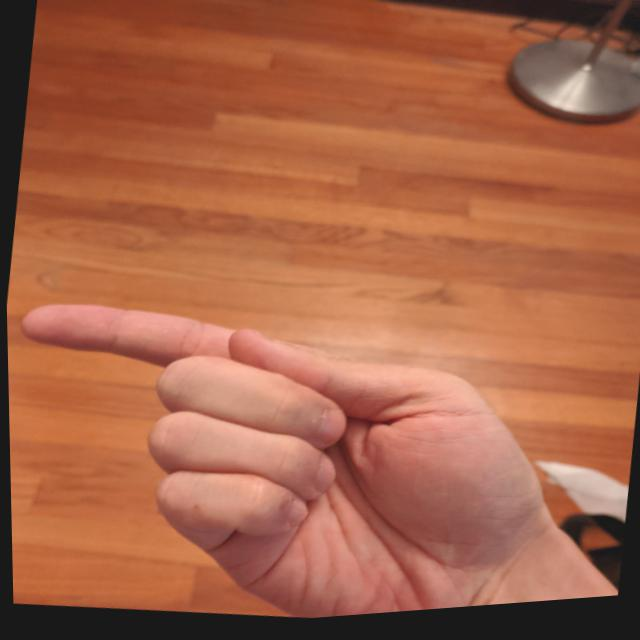G: (5, 259, 572, 639)
